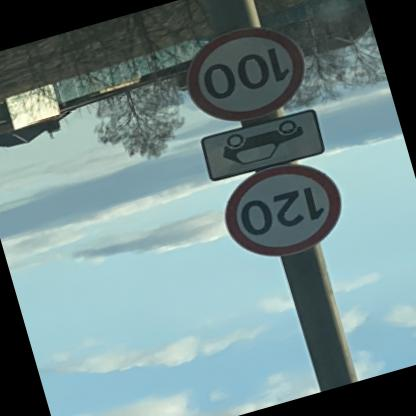speedlimit: (215, 152, 356, 272), (178, 15, 318, 135)
